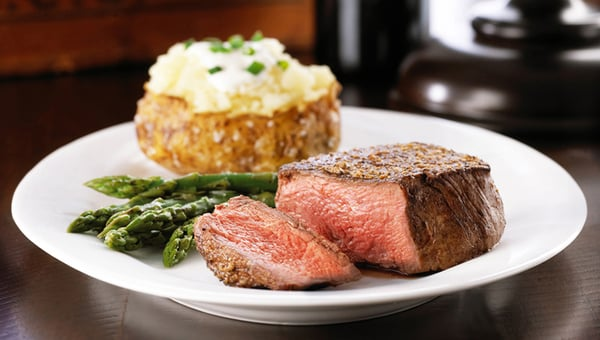curry: (68, 170, 278, 268)
